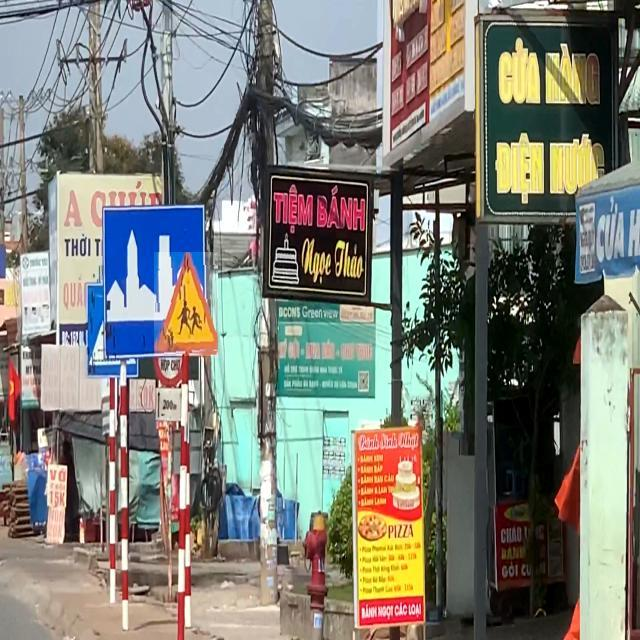W-225: (155, 253, 219, 357)
